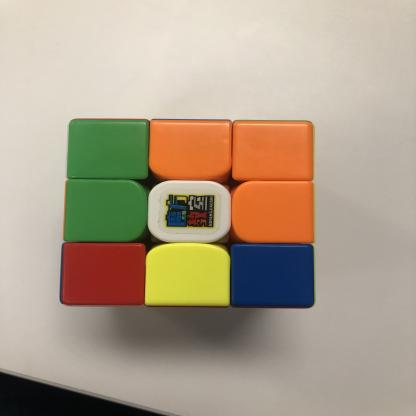UnsolvedCube: (58, 102, 328, 314)
